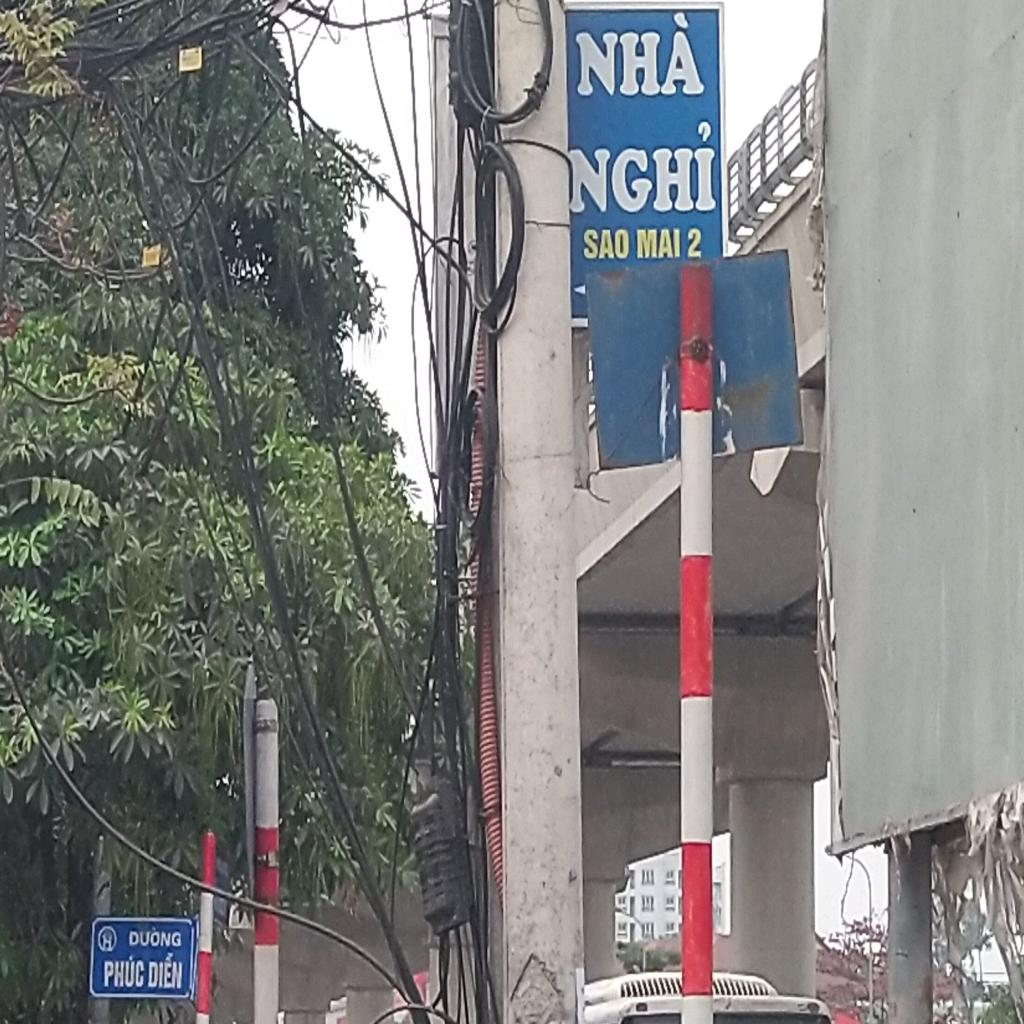text: (569, 108, 722, 219), (569, 8, 712, 102), (575, 222, 632, 265), (632, 218, 682, 264), (102, 953, 145, 992), (124, 922, 186, 949), (680, 221, 709, 265)
